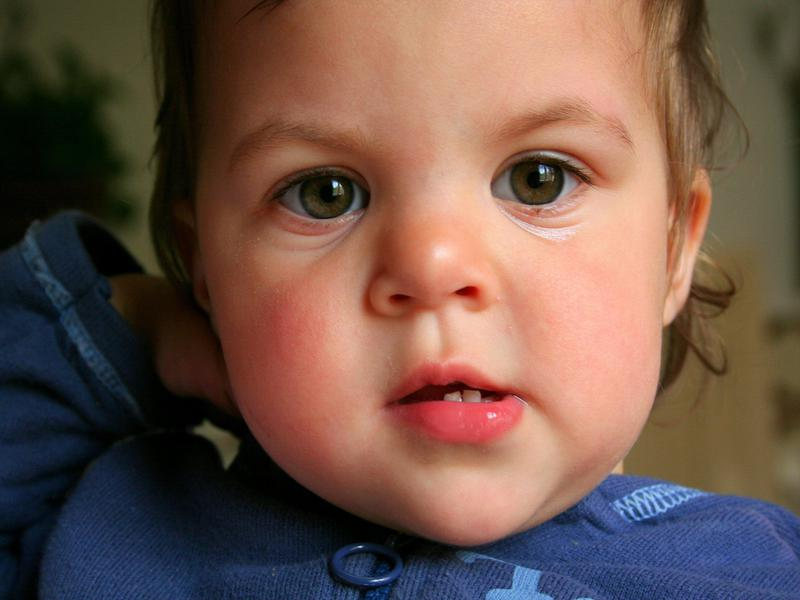person: (16, 1, 797, 590)
